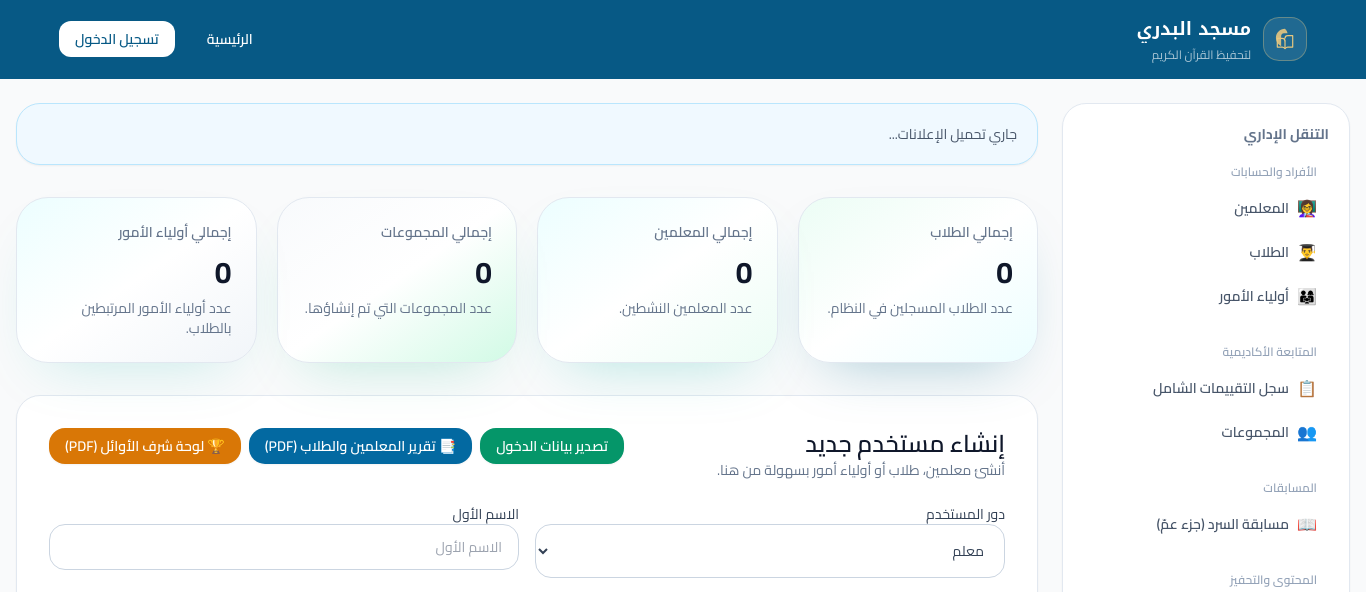
Scenario: sends core profile fields when editing a student
This screenshot has width=1366, height=592.
Later steps or results of the test are not shown.
Step 1. Click the button "👨‍🎓 الطلاب" → (1206, 252), box [1083,232,1329,272]
(page scrolled)
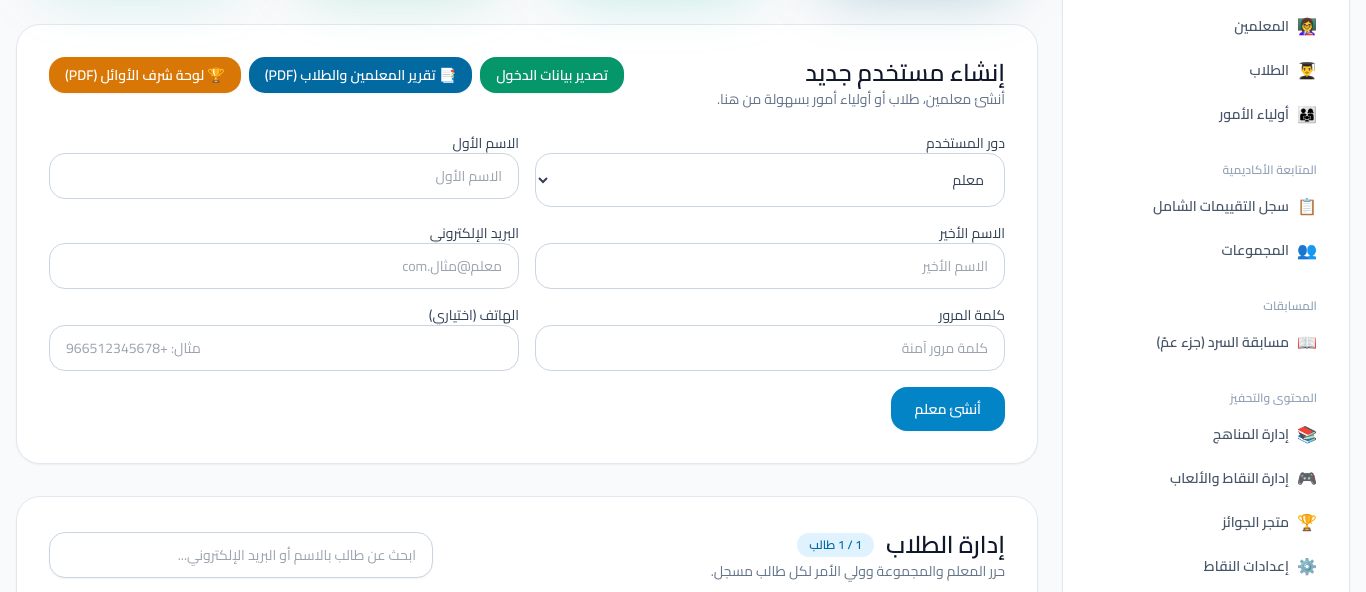
Expected: the heading "إدارة الطلاب" is shown, [886,529,1005,561]
